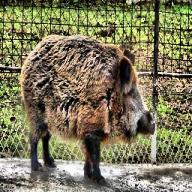boar: (19, 33, 155, 185)
